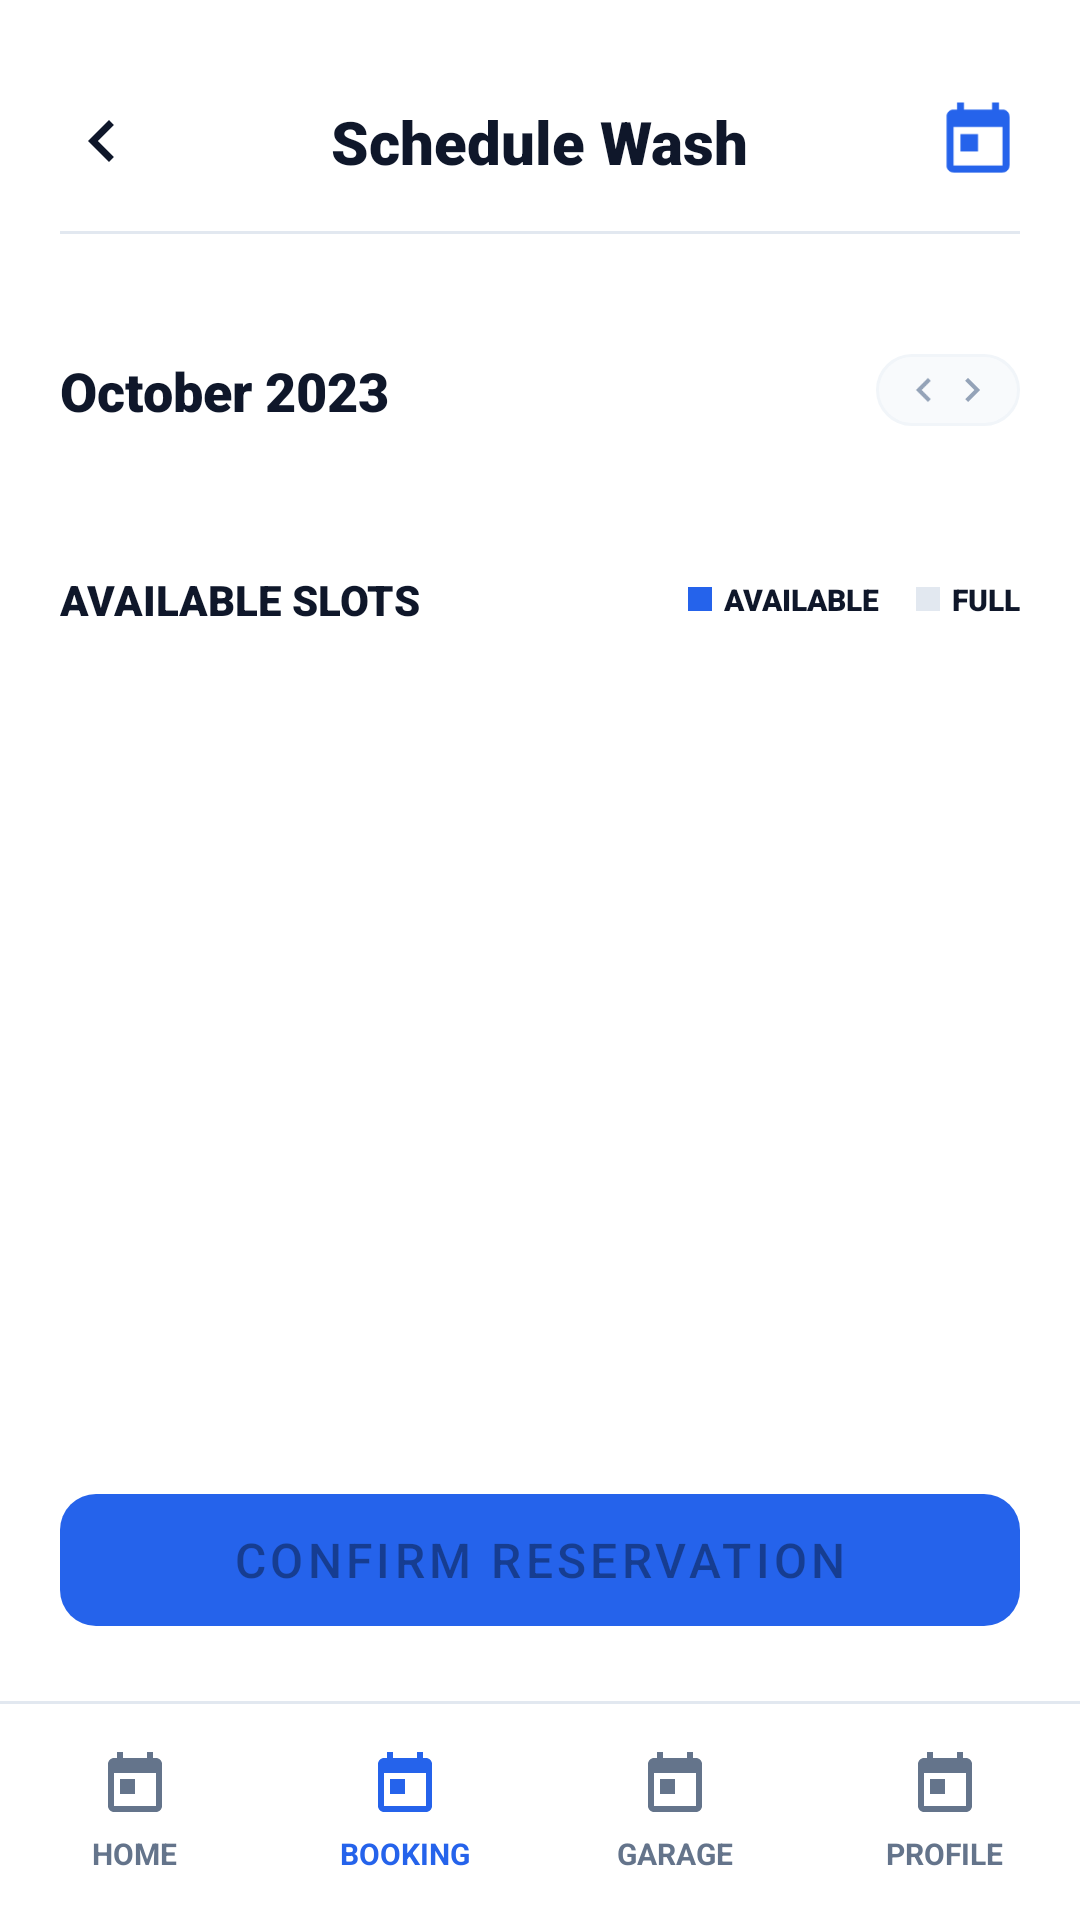

Locate icon controls on the screen. Image size 1080x1920, boxes as region(x1, y1, x2, y2).
back: region(88, 120, 114, 162)
calendar: region(946, 102, 1010, 173), region(108, 1752, 162, 1812), region(378, 1752, 432, 1812), region(648, 1752, 702, 1812), region(918, 1752, 972, 1812)
